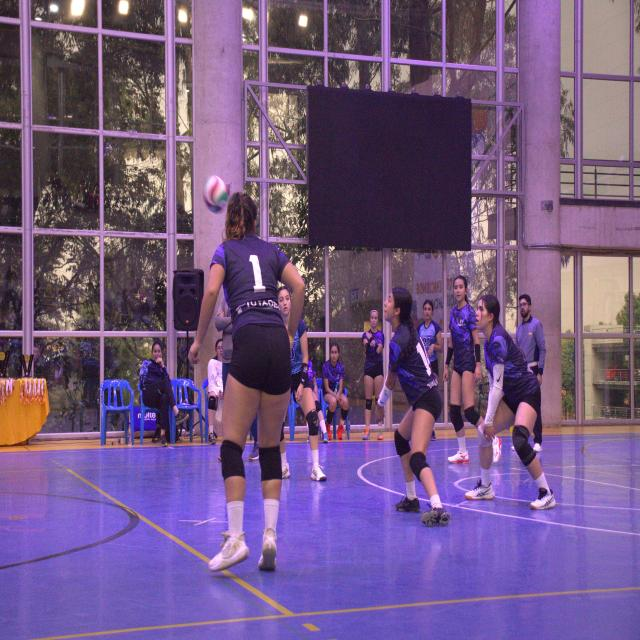volleyball: (203, 174, 230, 214)
